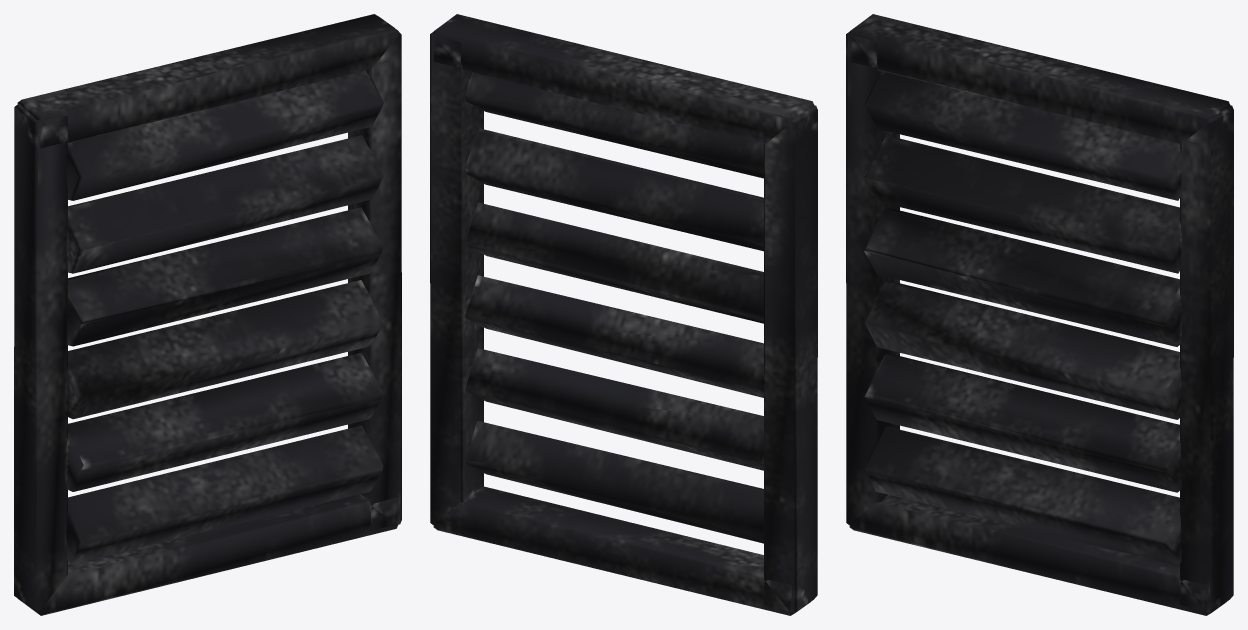
The model's file is Rejilla_Pared.fbx.
3 views of the same model, side by side, from view 1: azimuth 30°, elevation 25°; view 2: azimuth 150°, elevation 25°; view 3: azimuth 330°, elevation 25° (orthographic).
Parts seen in each view (by area): view 1: Rejilla_Pared; view 2: Rejilla_Pared; view 3: Rejilla_Pared.
Part boxes in pixels (x1,y1,x2,y2): Rejilla_Pared: [14, 14, 401, 615]; Rejilla_Pared: [430, 14, 817, 615]; Rejilla_Pared: [846, 14, 1233, 615].
Bounding box in the file's own units: 2.65 × 3.45 × 0.4577.
